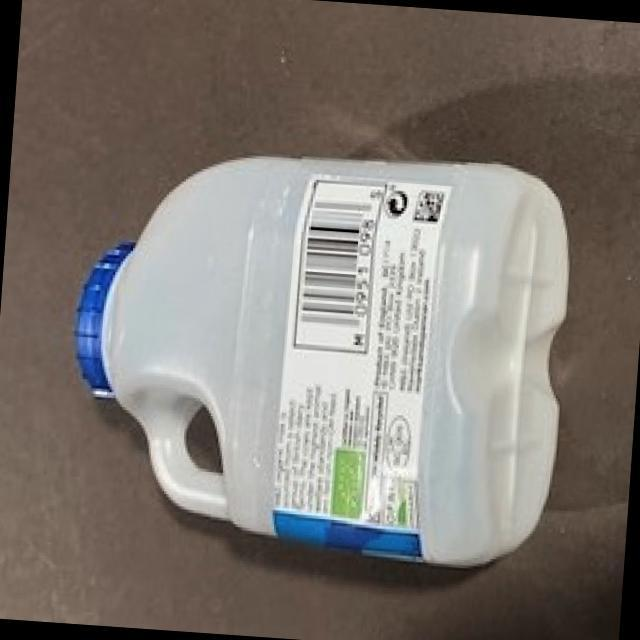HDPE Plastic: (72, 149, 576, 576)
